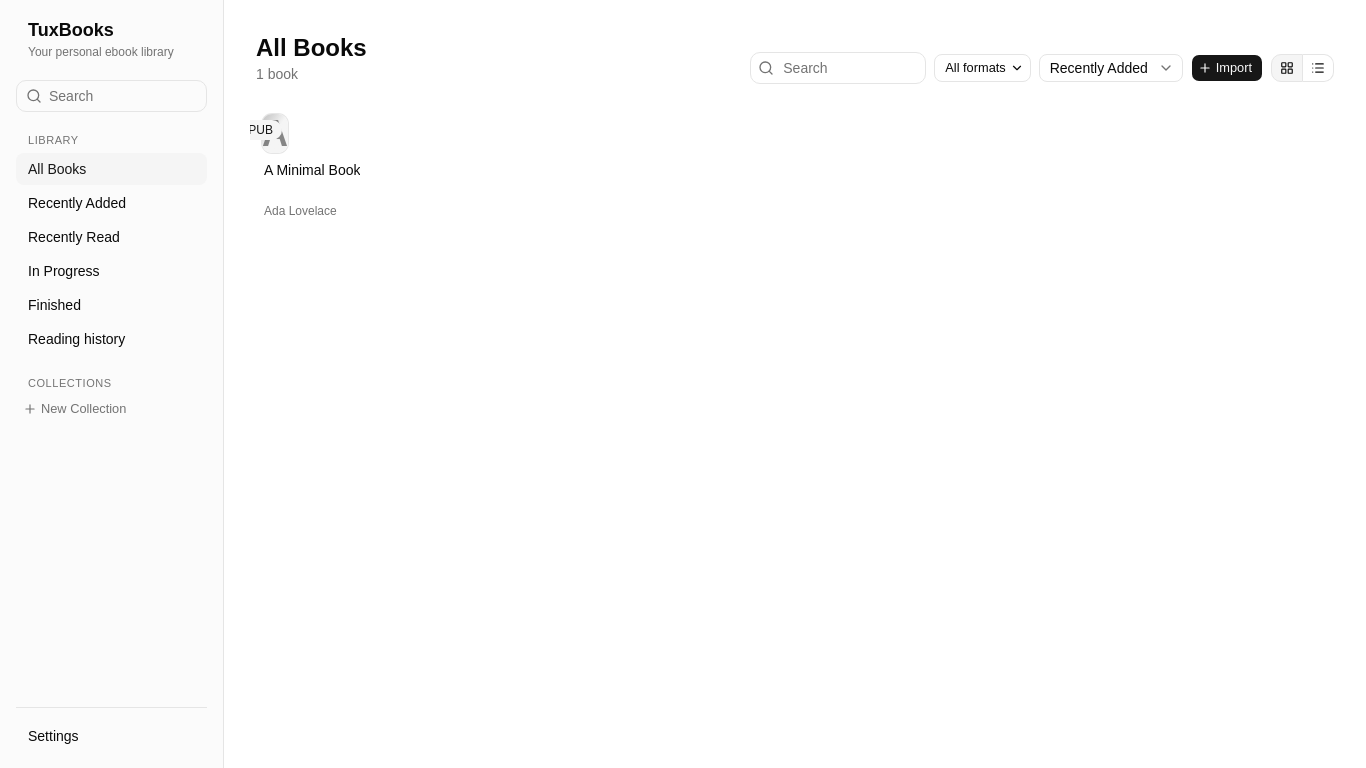
Test: Import via the header menu › imports the picked folder through import_paths and reports the result
Expected: the header with test id "library-header" is shown, x1=256 y1=32 x2=1334 y2=84
Click the button with test id "import-menu" at (1227, 68), box x1=1191 y1=54 x2=1263 y2=82
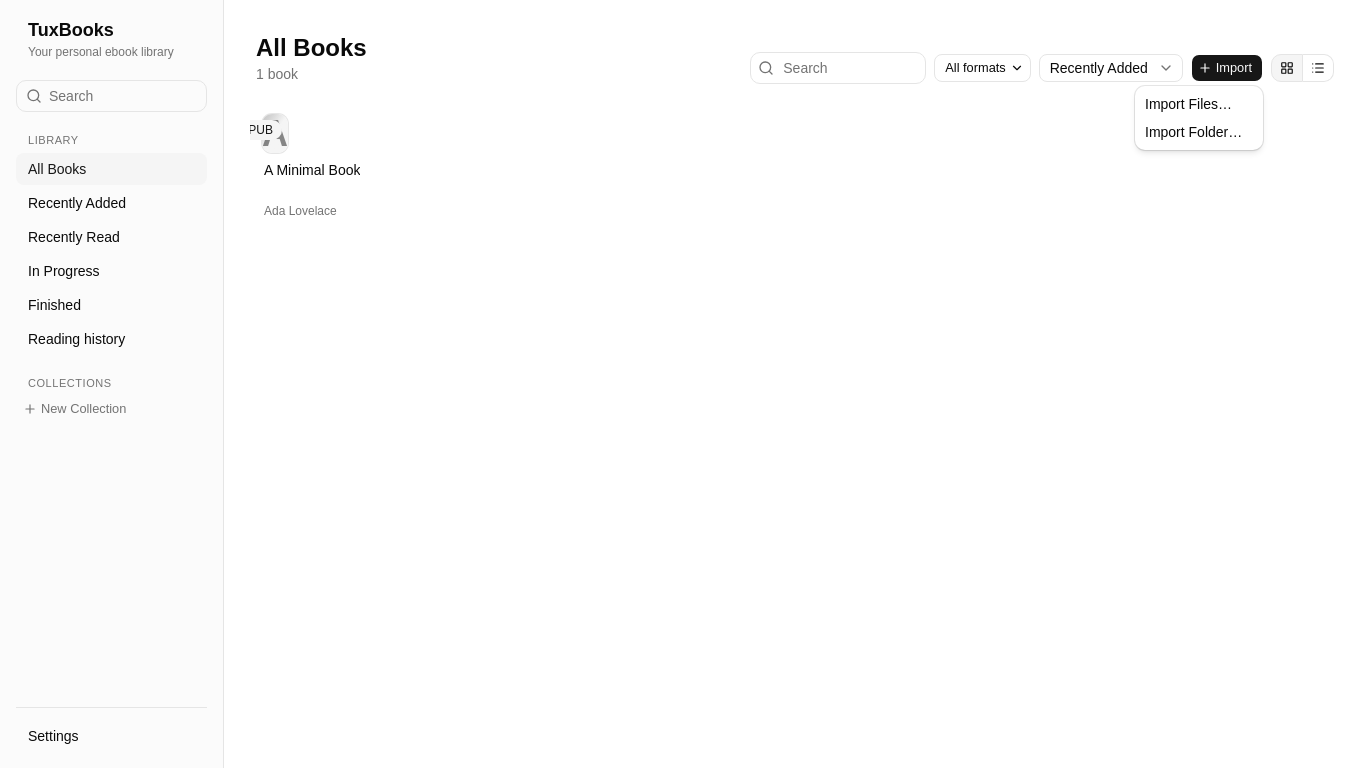
Click the menu item "Import Folder…" at (1194, 132), box x1=1145 y1=124 x2=1242 y2=140
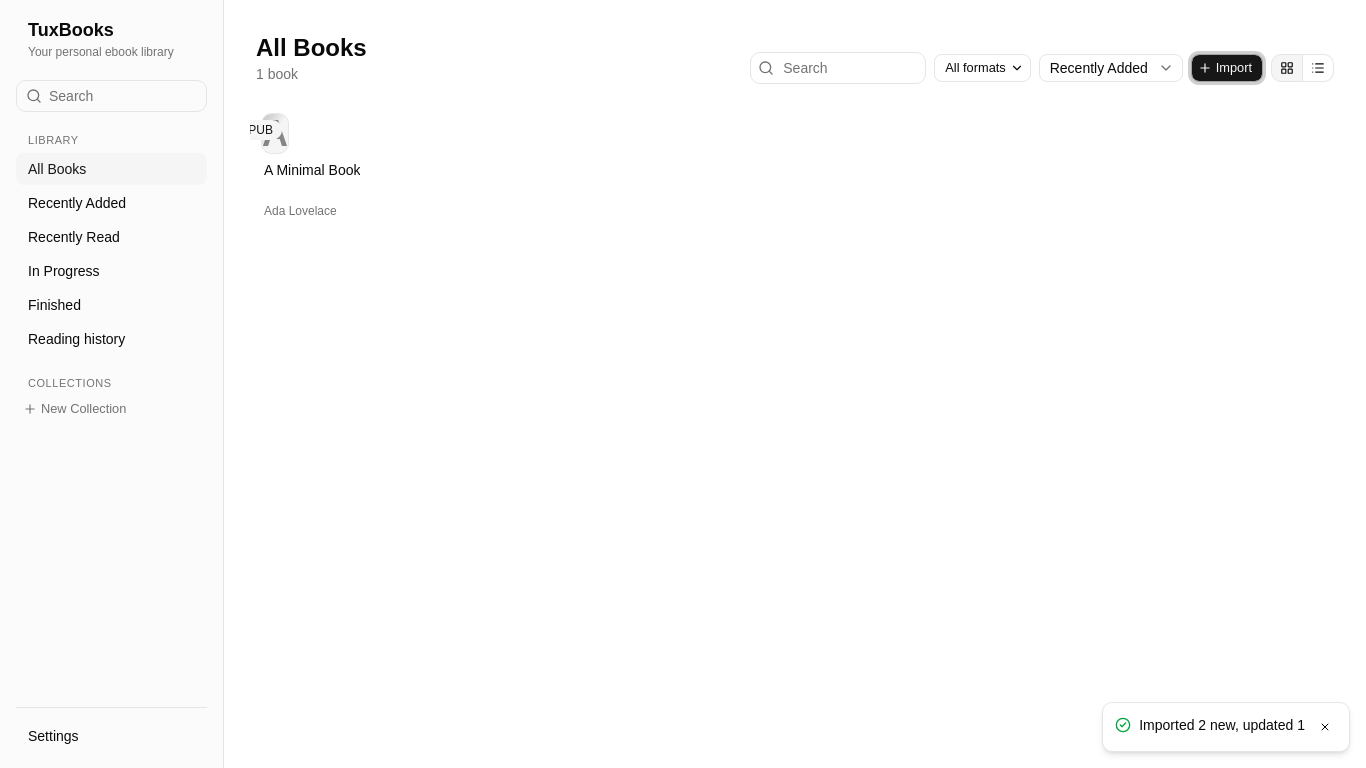
Now the message with test id "import-status" reads "Imported 2 new, updated 1", box x1=1139 y1=717 x2=1305 y2=733
Click the button named "Dismiss import status" at (1325, 727), box x1=1313 y1=715 x2=1337 y2=739
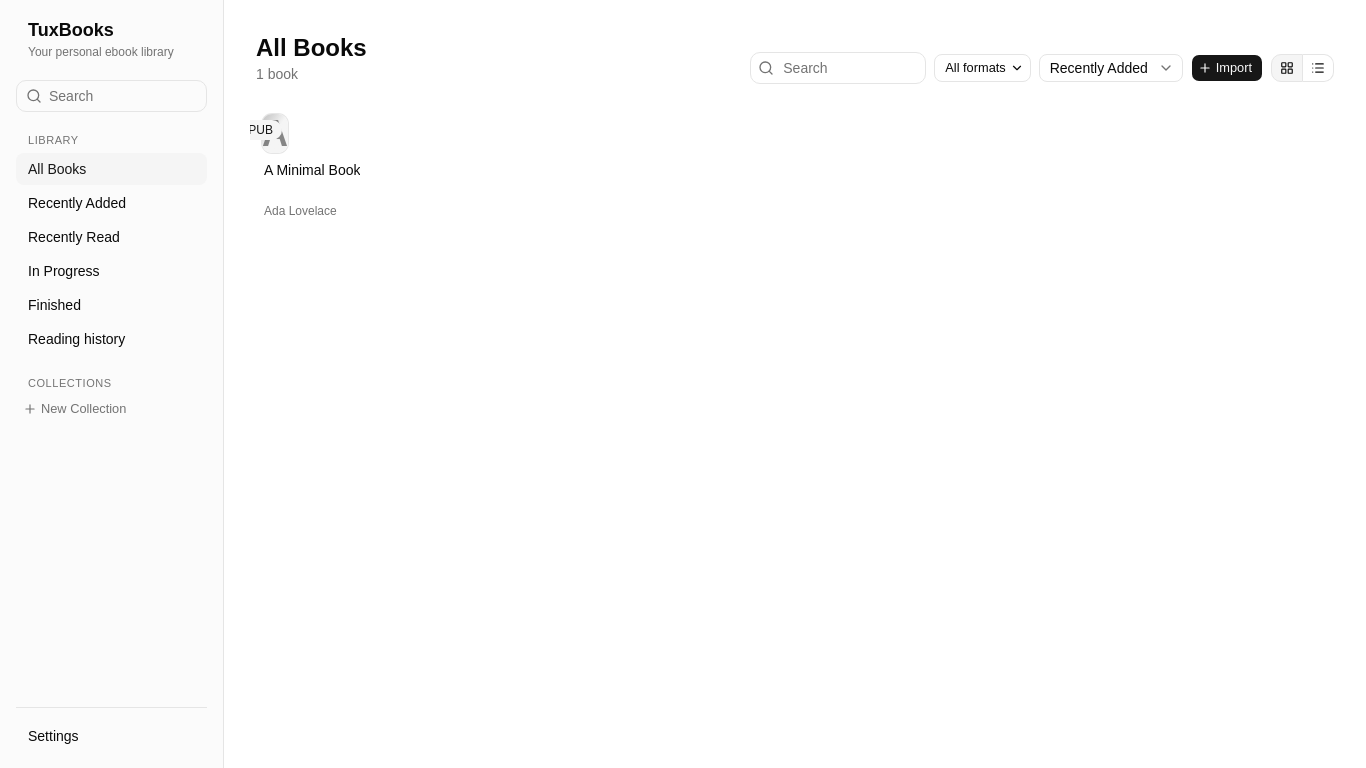
Now the message with test id "import-status" is gone
